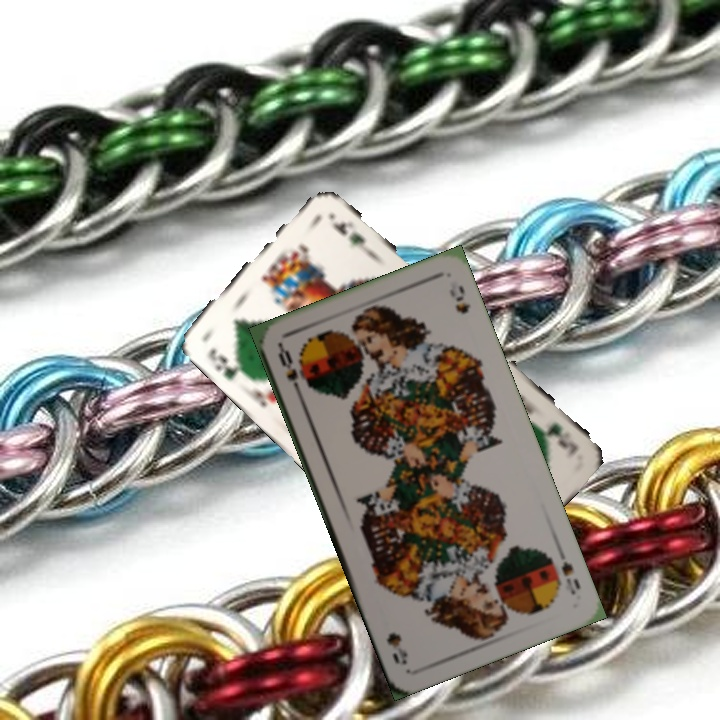GK: (203, 344, 249, 382), (542, 419, 581, 456)
SO: (274, 342, 304, 399), (553, 544, 583, 598)
